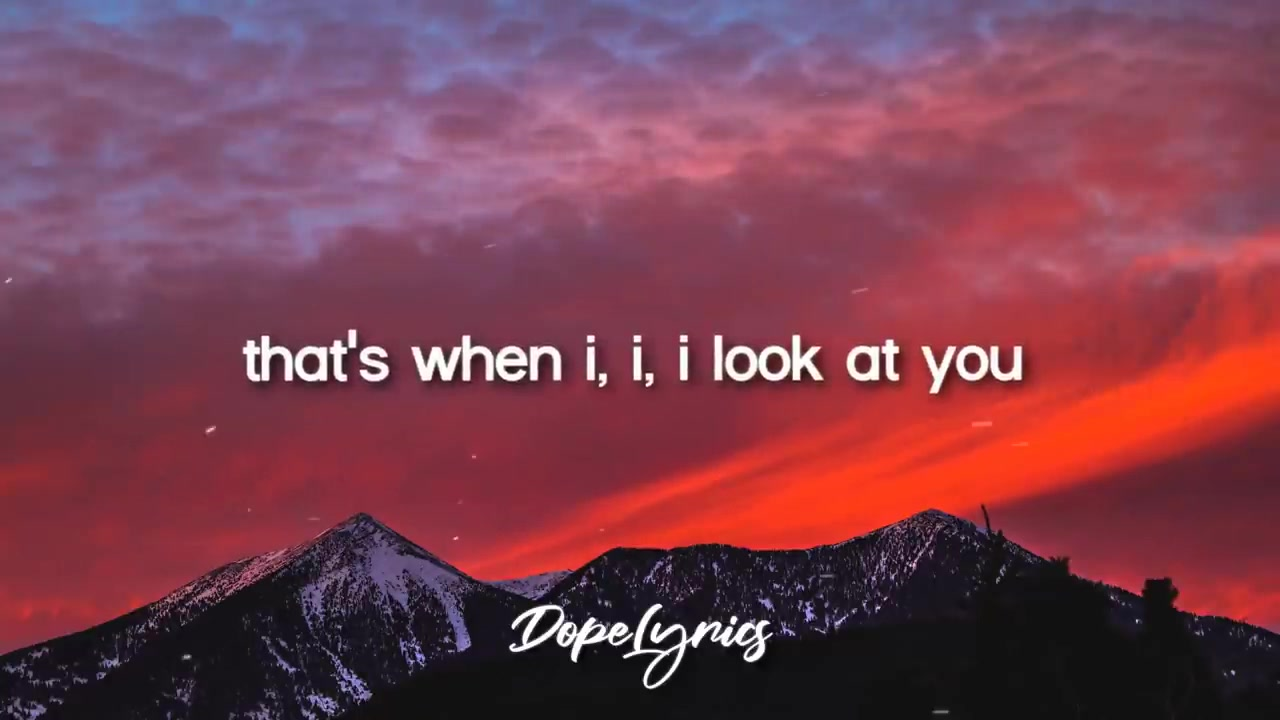text-label: (237, 324, 1032, 399)
